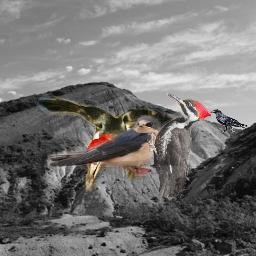Crow: (210, 109, 249, 133)
Swallow: (47, 114, 161, 176)
Woodpecker: (30, 90, 183, 195), (147, 91, 211, 197)
